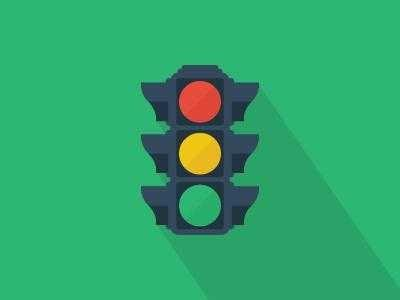green: (175, 180, 227, 233)
red: (177, 77, 225, 127)
